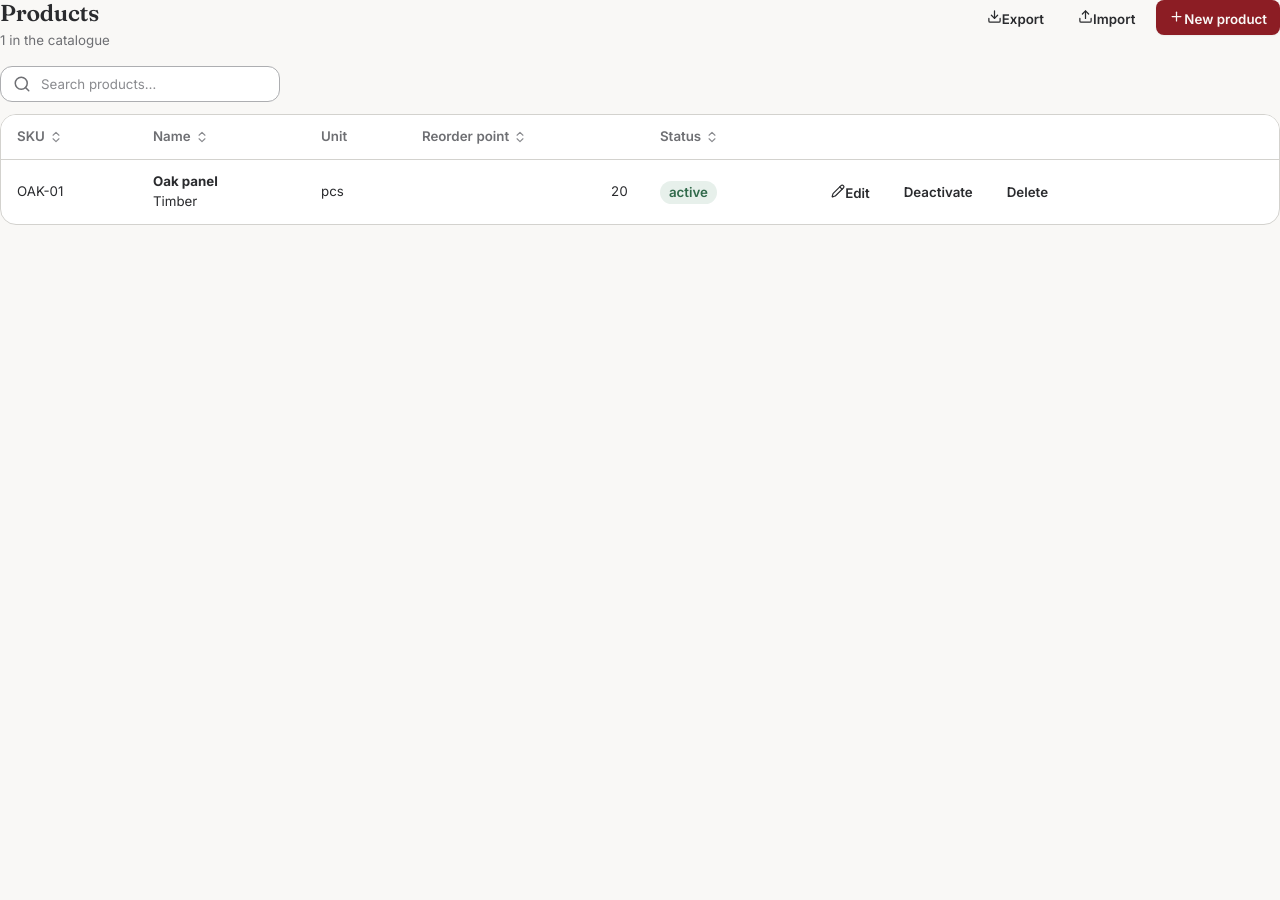
ProductsSection edit › does not PATCH when opening the create dialog
Expected: the text "Oak panel" is shown, top-left (153, 174), bottom-right (218, 190)
Click the button "New product". click: click(1218, 18)
box: top-left (1156, 0), bottom-right (1279, 35)
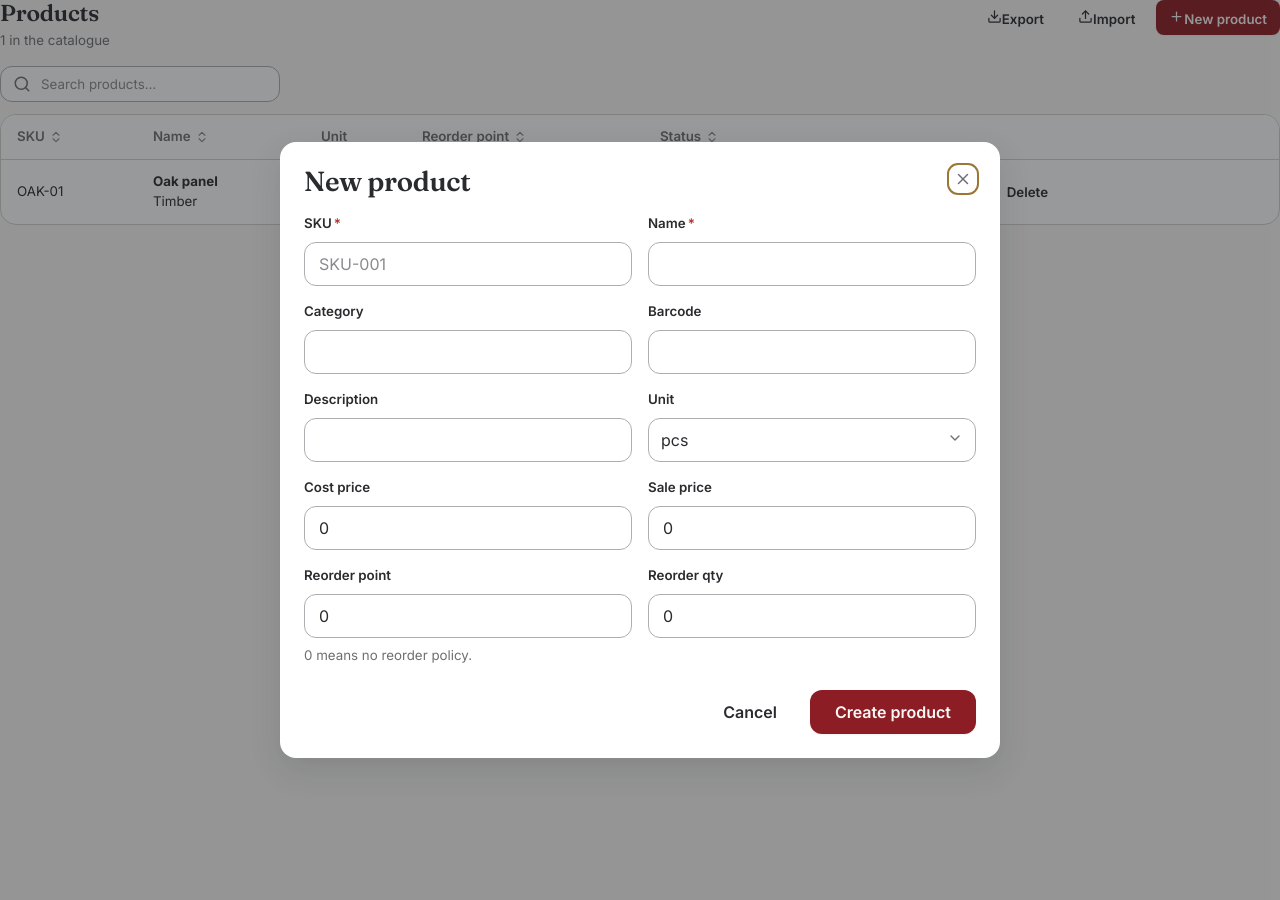
Now the text "Create product" is shown, box top-left (835, 704), bottom-right (951, 720)
